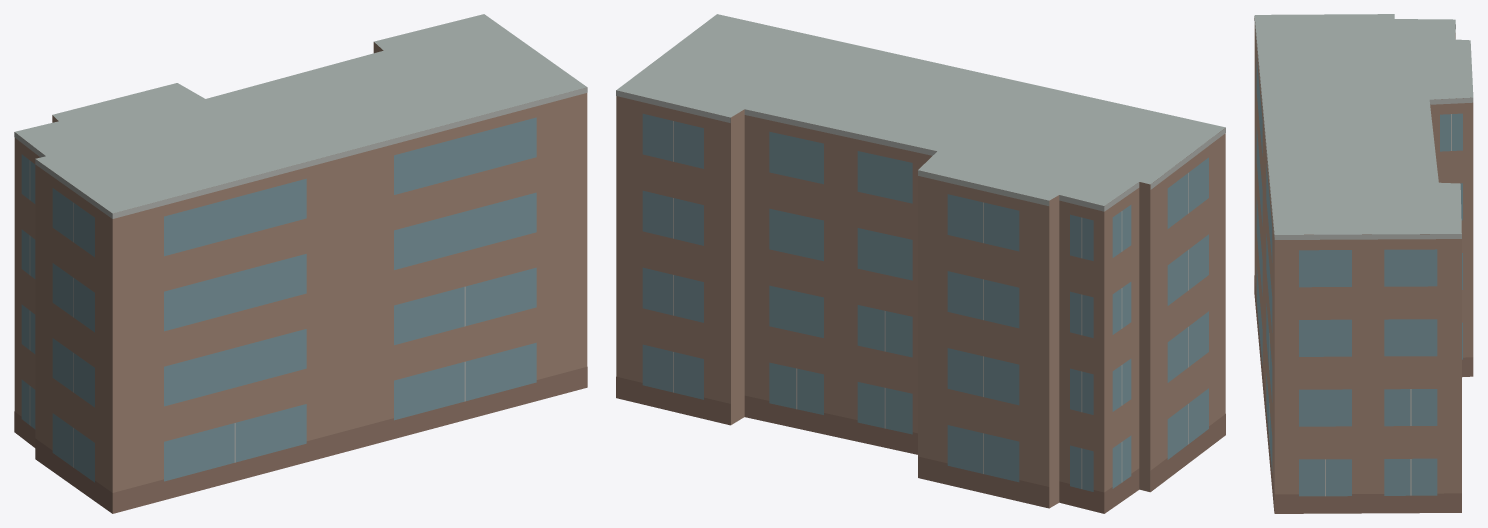
The model's file is survey-upis-32927795.glb.
3 views of the same model, side by side, from view 1: azimuth 30°, elevation 25°; view 2: azimuth 150°, elevation 25°; view 3: azimuth 270°, elevation 25° (orthographic). The views are drawn at different scales.
Visible parts, largest first — view 1: survey-upis-32927795.tmp; view 2: survey-upis-32927795.tmp; view 3: survey-upis-32927795.tmp.
Boxes of the visible parts, left/top/right/bottom form: survey-upis-32927795.tmp: left=14, top=14, right=587, bottom=513; survey-upis-32927795.tmp: left=616, top=14, right=1225, bottom=513; survey-upis-32927795.tmp: left=1254, top=14, right=1473, bottom=513.
Bounding box in the file's own units: 22.6 × 13.3 × 9.47.
